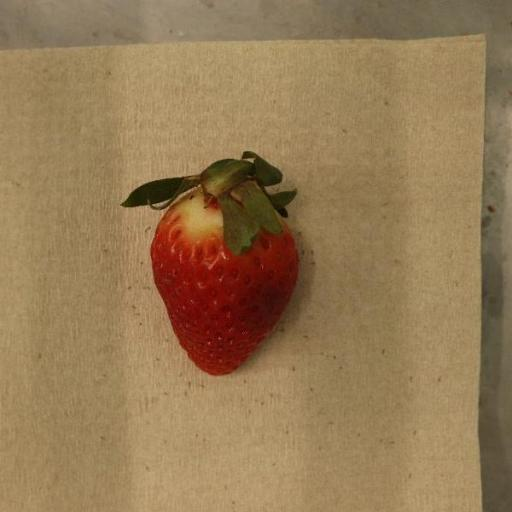Strawberry: (121, 151, 298, 377)
